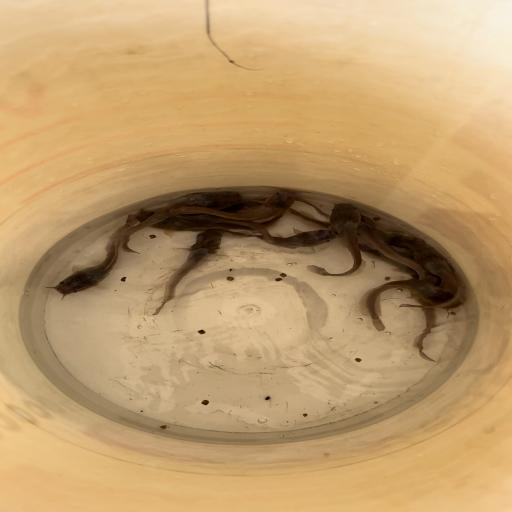lele: (117, 191, 245, 254), (47, 214, 139, 296), (150, 230, 232, 317), (282, 208, 430, 248), (360, 279, 465, 333), (353, 215, 433, 280), (168, 187, 302, 222), (306, 203, 365, 277), (395, 245, 462, 310), (136, 208, 268, 239), (240, 227, 342, 251), (407, 291, 441, 362), (245, 193, 332, 216)
